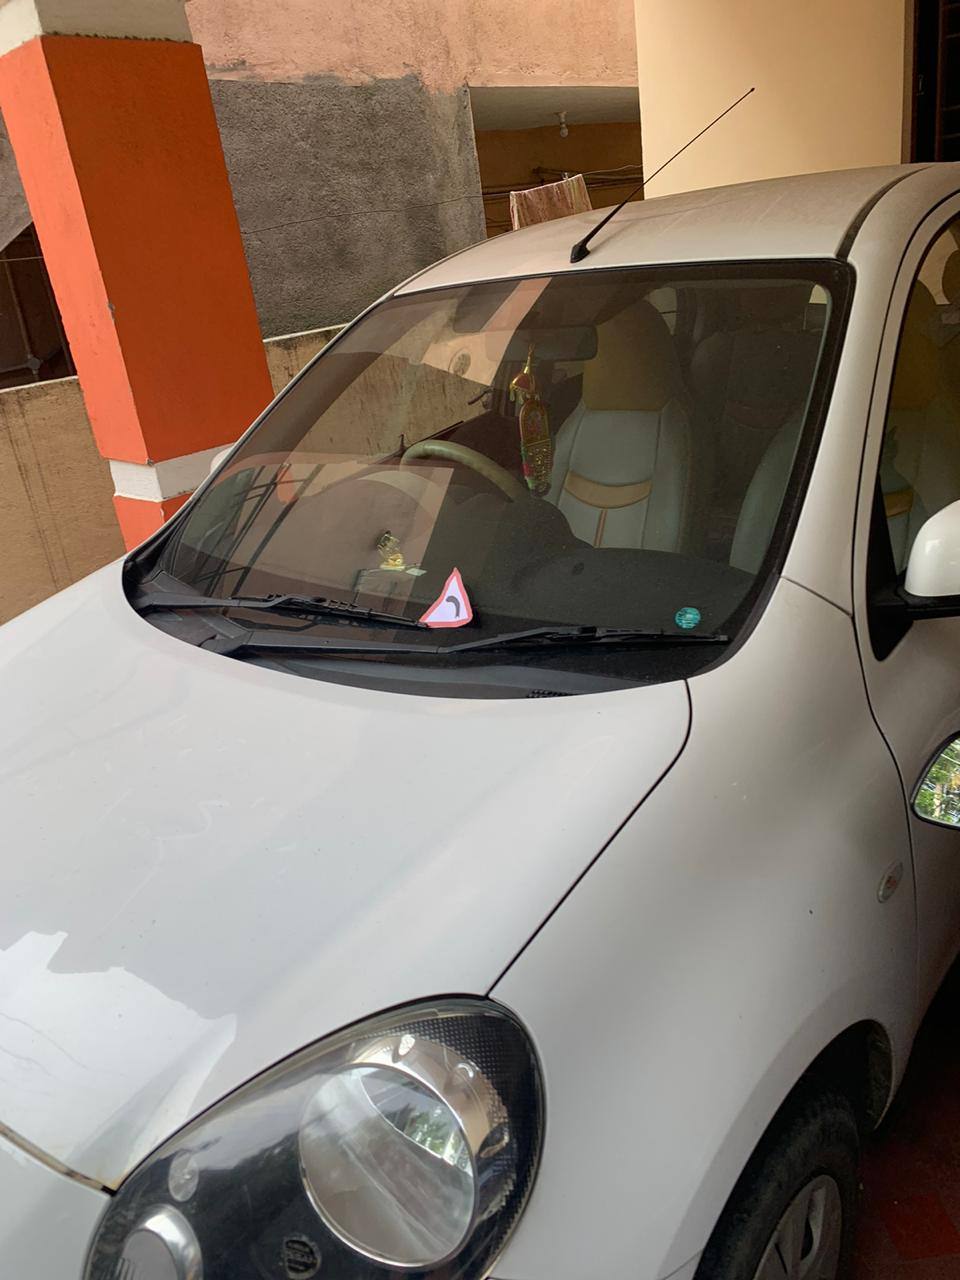LEFT CURVE: (410, 564, 486, 637)
